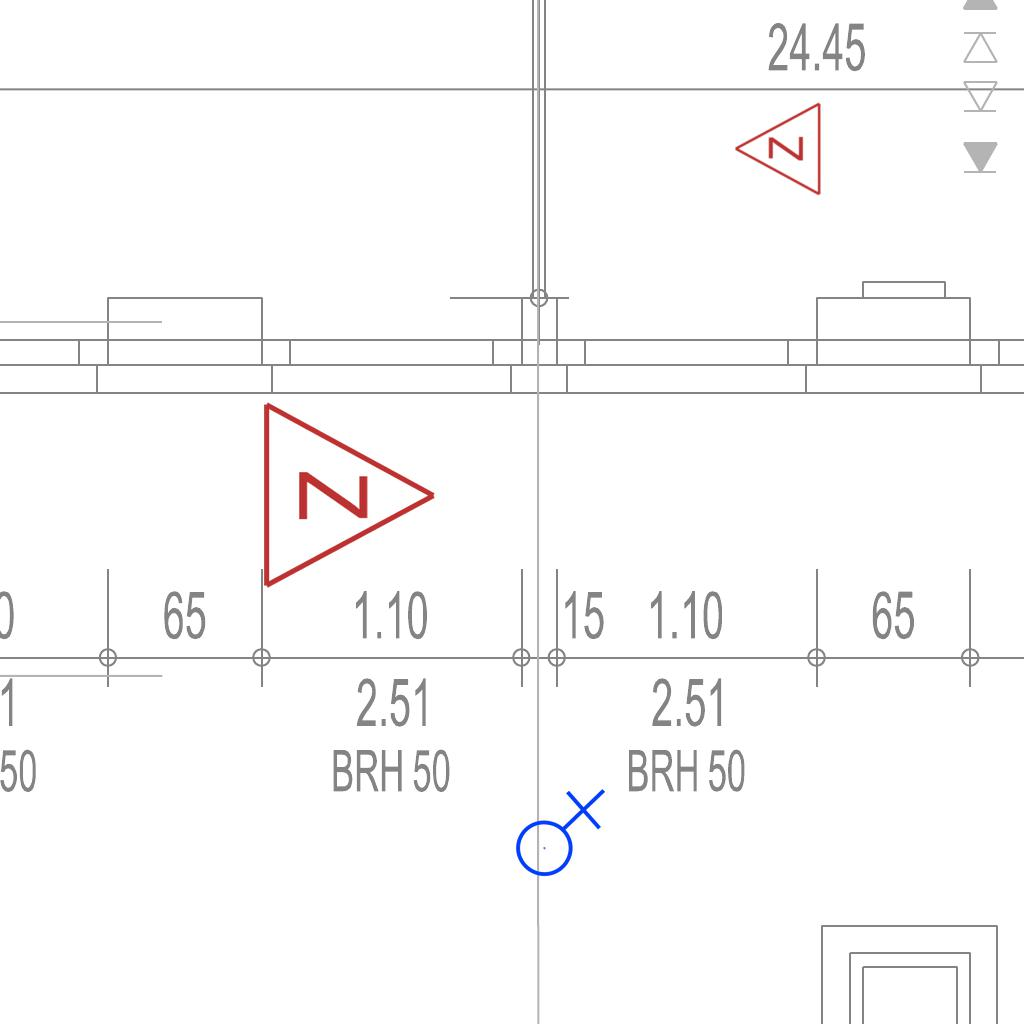Elektroanschluss_allgemein_230V_Geraeteanschlussdose_230V: (507, 784, 606, 878)
Zimmersignalleuchte: (249, 395, 449, 591), (728, 101, 828, 199)
